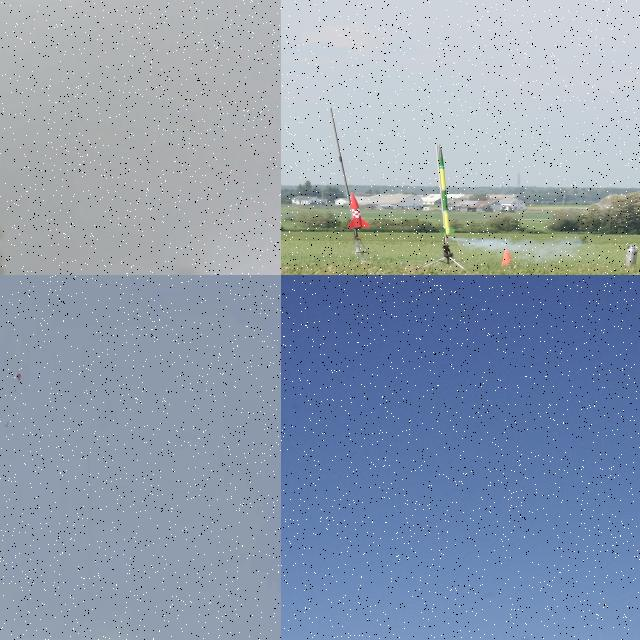Rocket: (438, 144, 456, 236), (347, 192, 371, 230)
